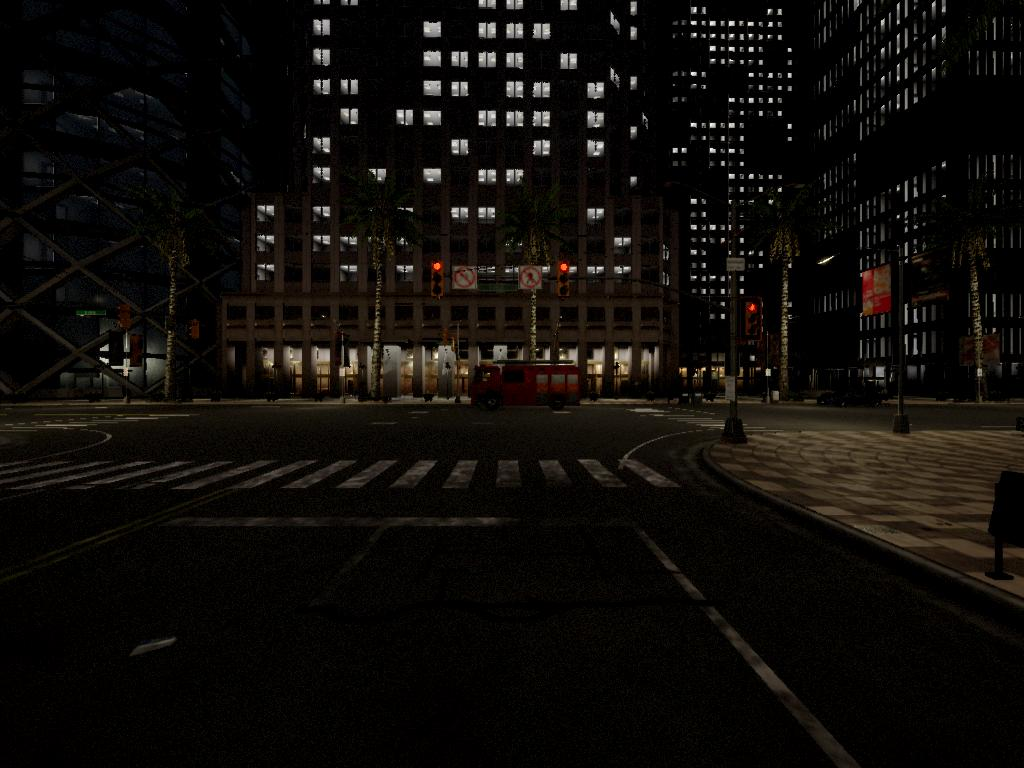traffic_light: (742, 301, 761, 338), (431, 262, 447, 302), (557, 259, 572, 301)
